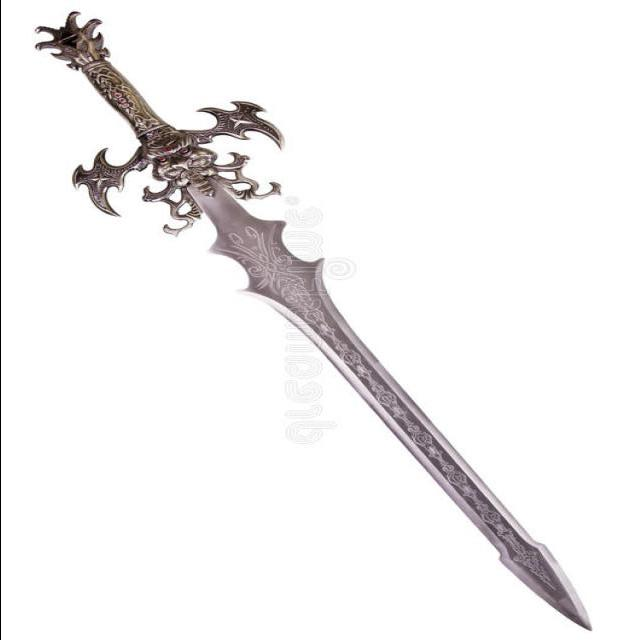sword: (31, 8, 610, 637)
